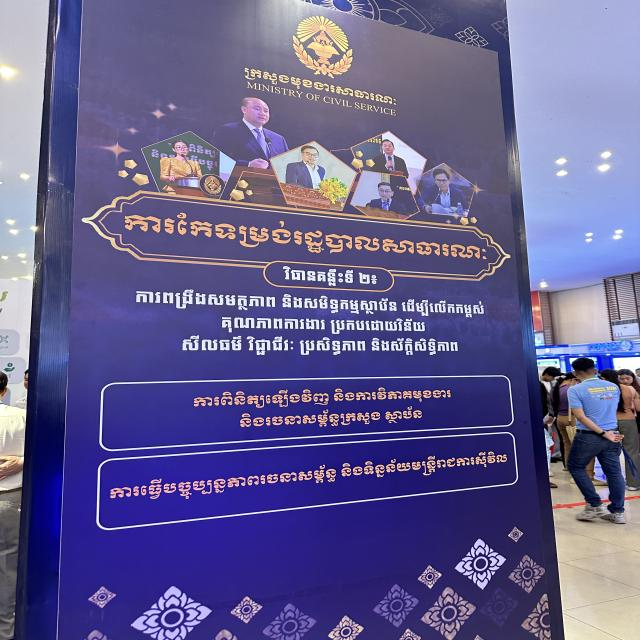1: (101, 446, 509, 507), (178, 383, 454, 414), (230, 404, 432, 436), (210, 315, 433, 334)
2: (131, 285, 488, 319)
3: (174, 335, 465, 358)
Yolov11kh: (114, 201, 490, 265), (270, 263, 382, 287)
